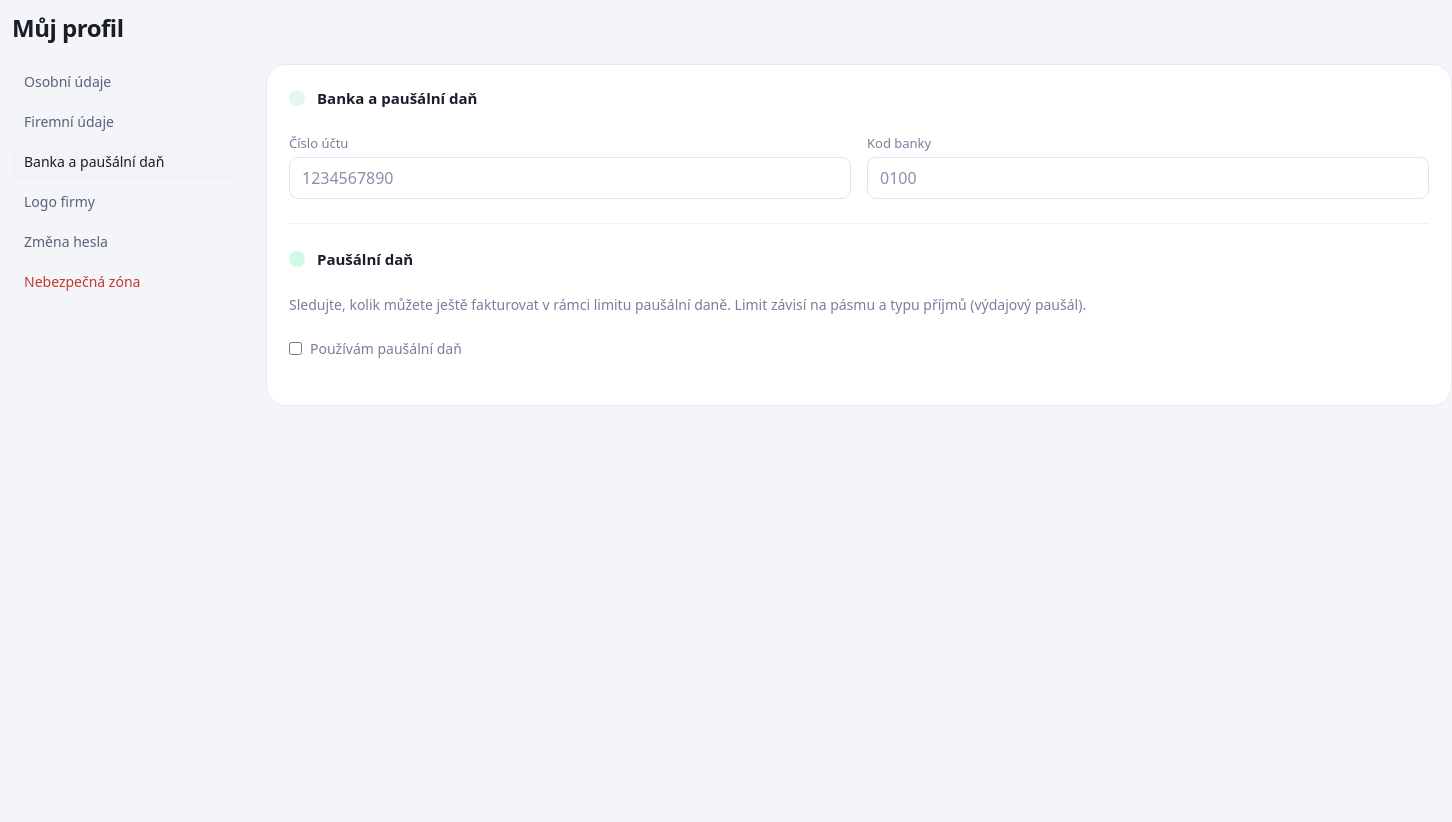
it: Profile Component › paušální daň fields appear when checkbox is checked
This screenshot has width=1452, height=822.
Note: Check the paušální daň checkbox
Step 1. Click the checkbox labelled "Používám paušální daň" → (296, 348), box 289,342 -> 302,355
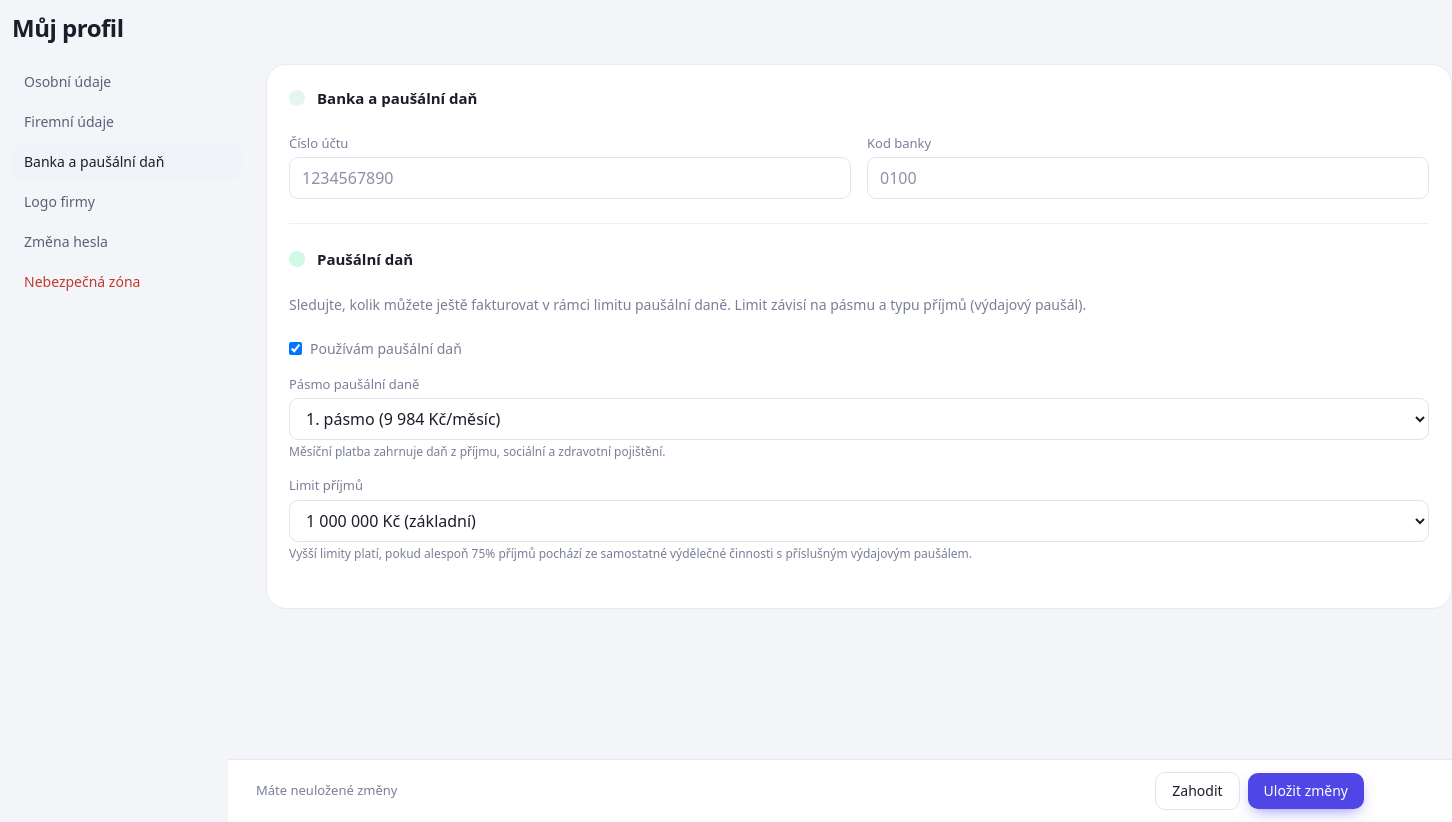
Check: the dropdown named "pausalniDanTier" below "Pásmo paušální daně" is shown, box 289,398 -> 1429,440
Check: the dropdown named "pausalniDanLimit" below "Limit příjmů" is shown, box 289,500 -> 1429,542
Check: the text "Pásmo paušální daně" is shown, box 289,374 -> 419,392
